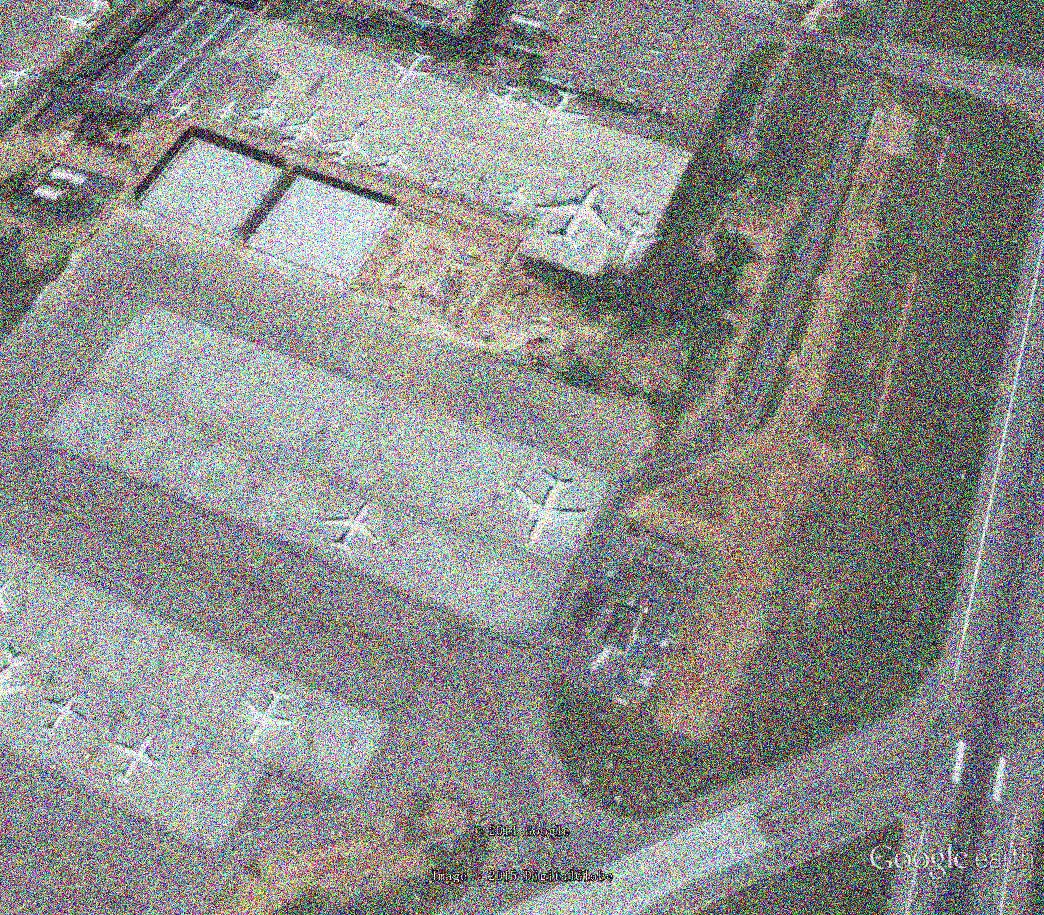aircraft: (508, 469, 594, 550), (535, 182, 615, 251), (241, 684, 299, 751), (606, 206, 664, 270), (320, 501, 383, 557), (114, 730, 164, 790), (530, 83, 591, 132), (319, 118, 370, 168), (38, 694, 91, 740), (388, 49, 440, 93), (282, 106, 324, 154), (2, 644, 32, 703), (368, 140, 412, 180), (482, 81, 529, 118), (493, 181, 537, 218), (246, 95, 281, 133), (56, 12, 98, 36), (4, 64, 42, 88), (212, 98, 241, 127), (164, 98, 195, 124)
